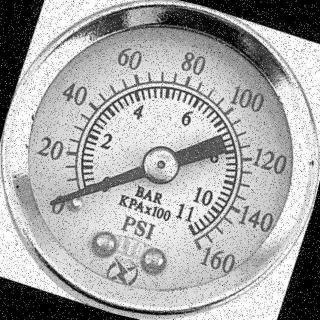gauge: (0, 0, 320, 320), (138, 140, 185, 188), (59, 173, 102, 209), (176, 223, 213, 256), (44, 191, 66, 213)
